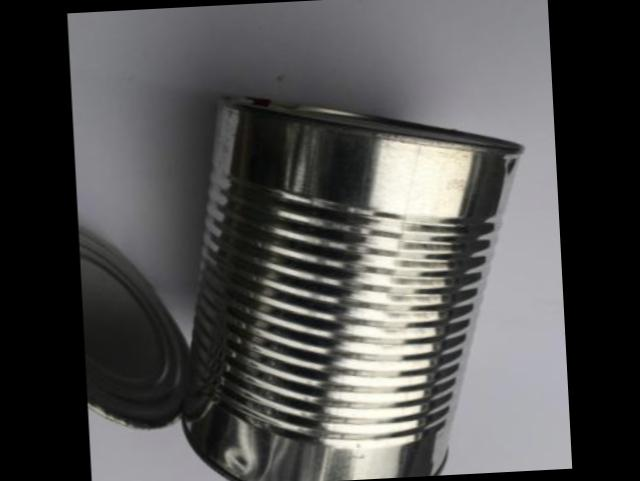metal: (80, 100, 519, 481)
